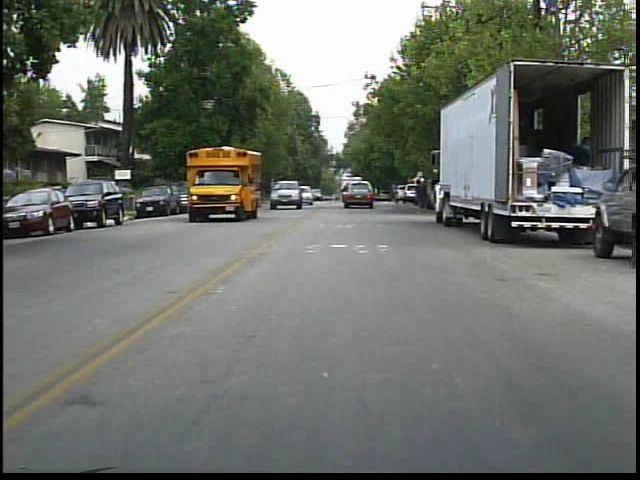person: (410, 174, 433, 220)
